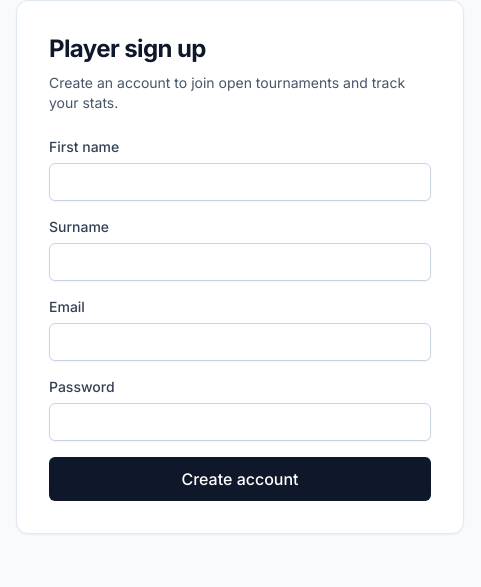
Test: SignupForm › shows signup errors inline
This screenshot has width=481, height=587.
Type "Alice" into the field labelled "First name". click: coordinates (240, 182)
box: [49,163,431,201]
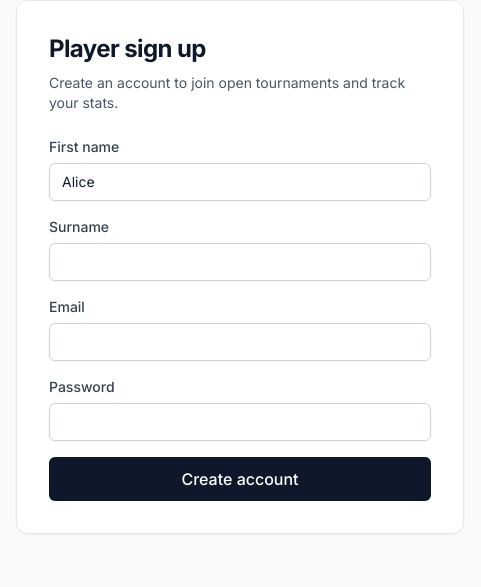
Type "alice@example.com" into the field labelled "Email". click: coordinates (240, 342)
box: [49,323,431,361]
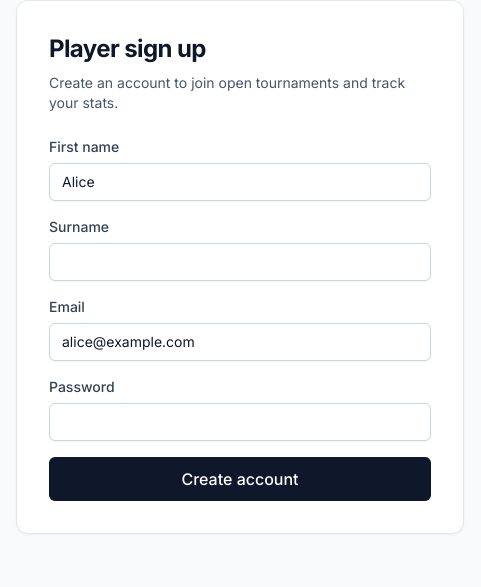
Type "player-password" into the password field labelled "Password". click: coordinates (240, 422)
box: [49,403,431,441]
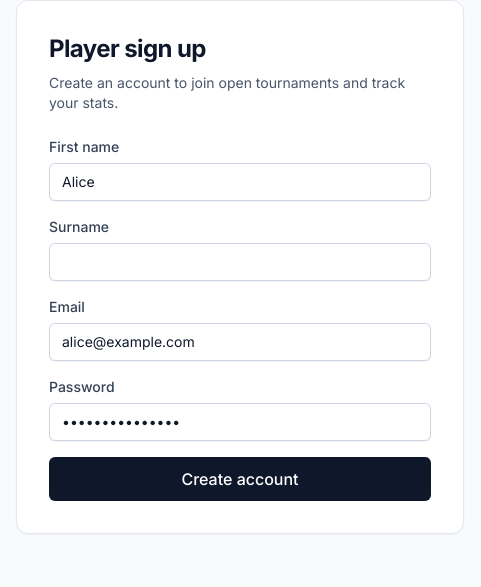
Click the button "Create account". click: coordinates (240, 479)
box: [49,457,431,501]
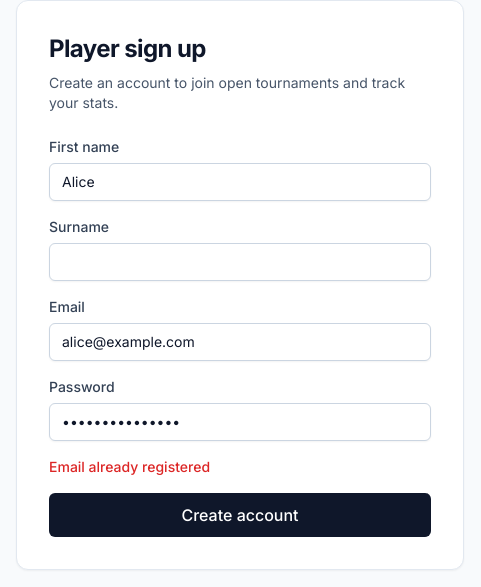
expect the text "Email already registered" is shown: met, box [49,458,210,475]
